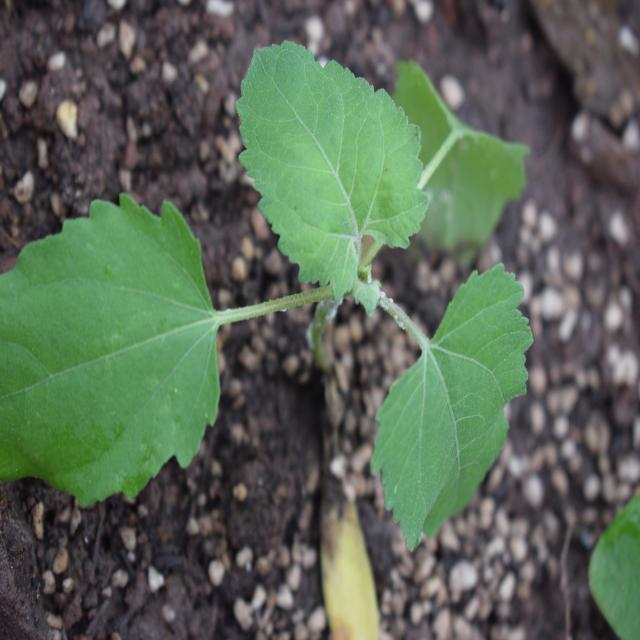cocklebur: (0, 59, 498, 534)
